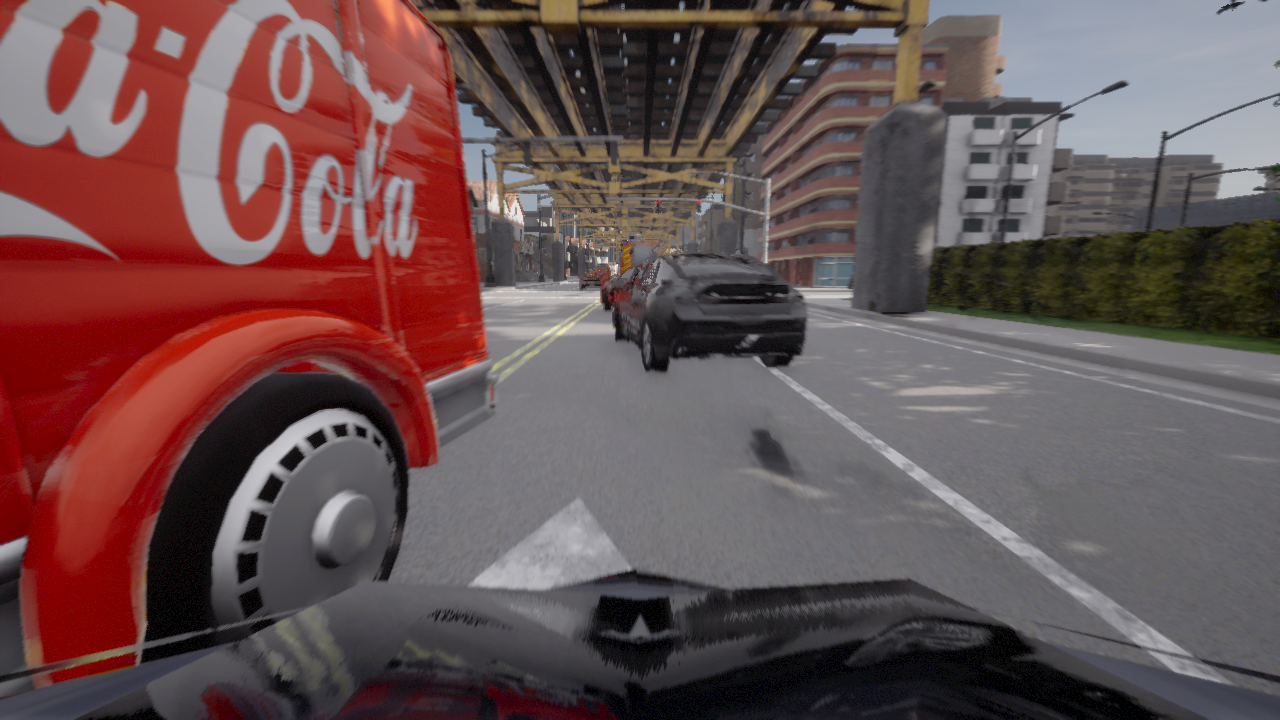cyclist: (0, 569, 1279, 719), (610, 251, 806, 372), (601, 264, 640, 311), (620, 235, 662, 273), (580, 273, 606, 289), (594, 267, 611, 280)
